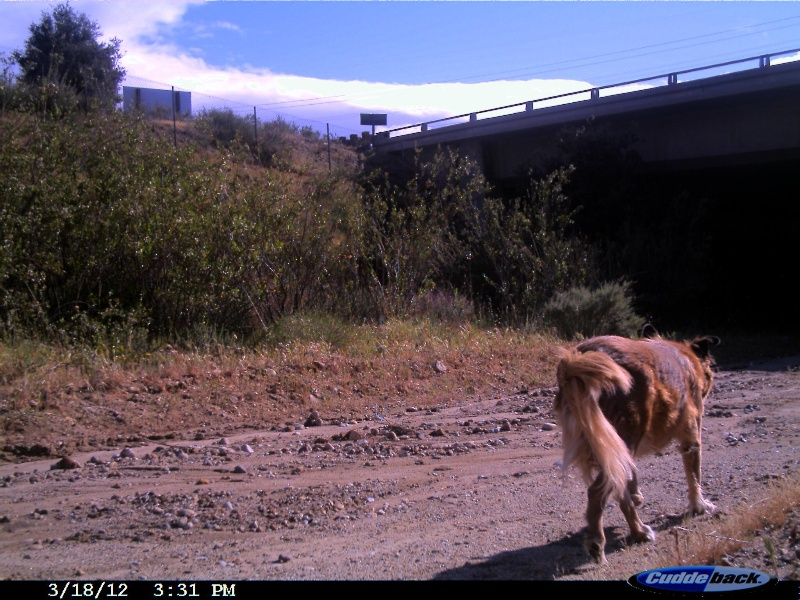dog: (551, 317, 722, 570)
